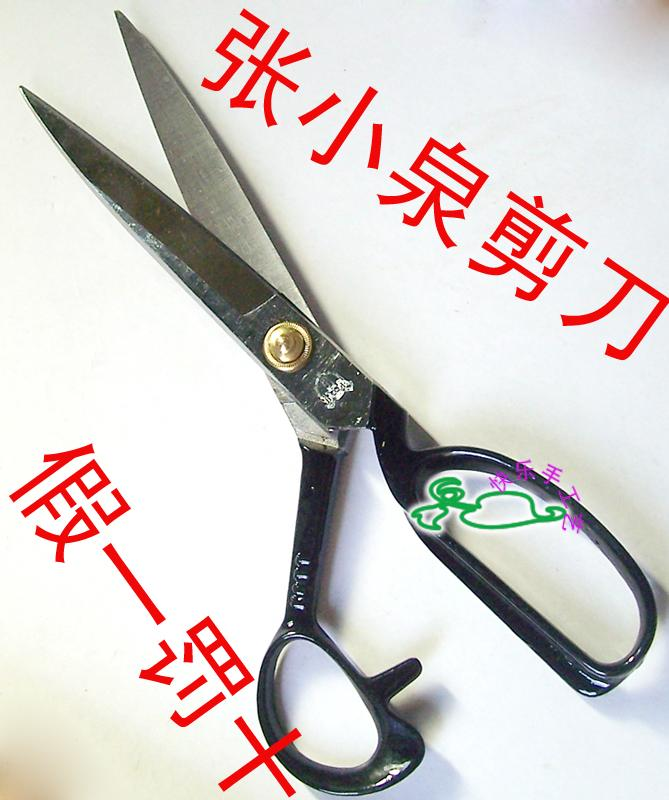scissor: (45, 34, 669, 752)
